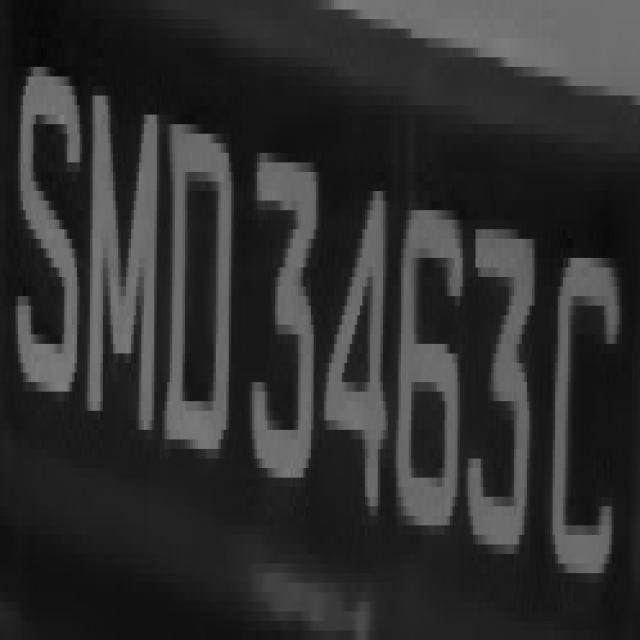3: (247, 96, 324, 497), (468, 153, 534, 592)
4: (318, 153, 391, 554)
6: (390, 143, 468, 554)
C: (542, 210, 627, 611)
D: (164, 96, 234, 468)
M: (80, 67, 164, 468)
S: (18, 19, 77, 411)
